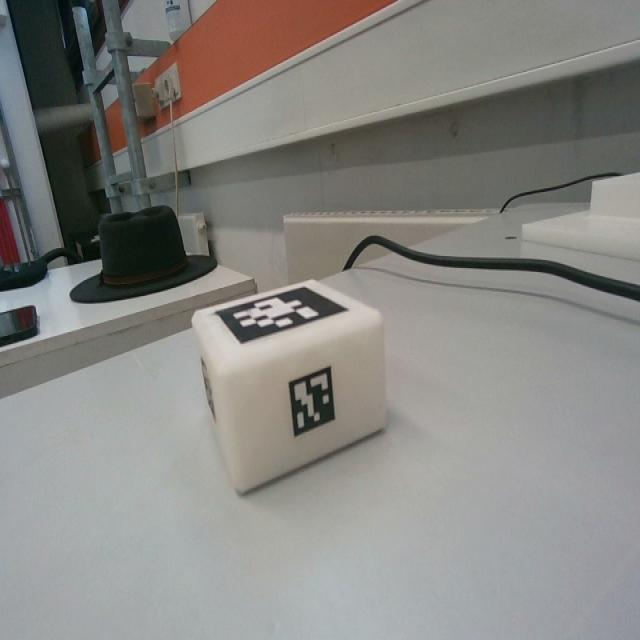Cube: (192, 276, 384, 497)
